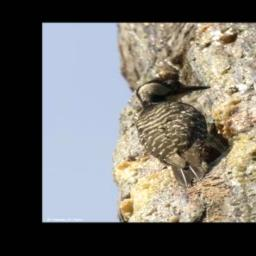Woodpecker: (134, 76, 231, 190)
